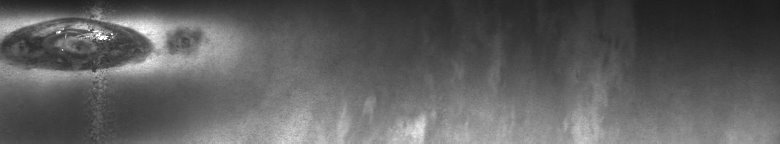ke: (4, 4, 152, 77)
